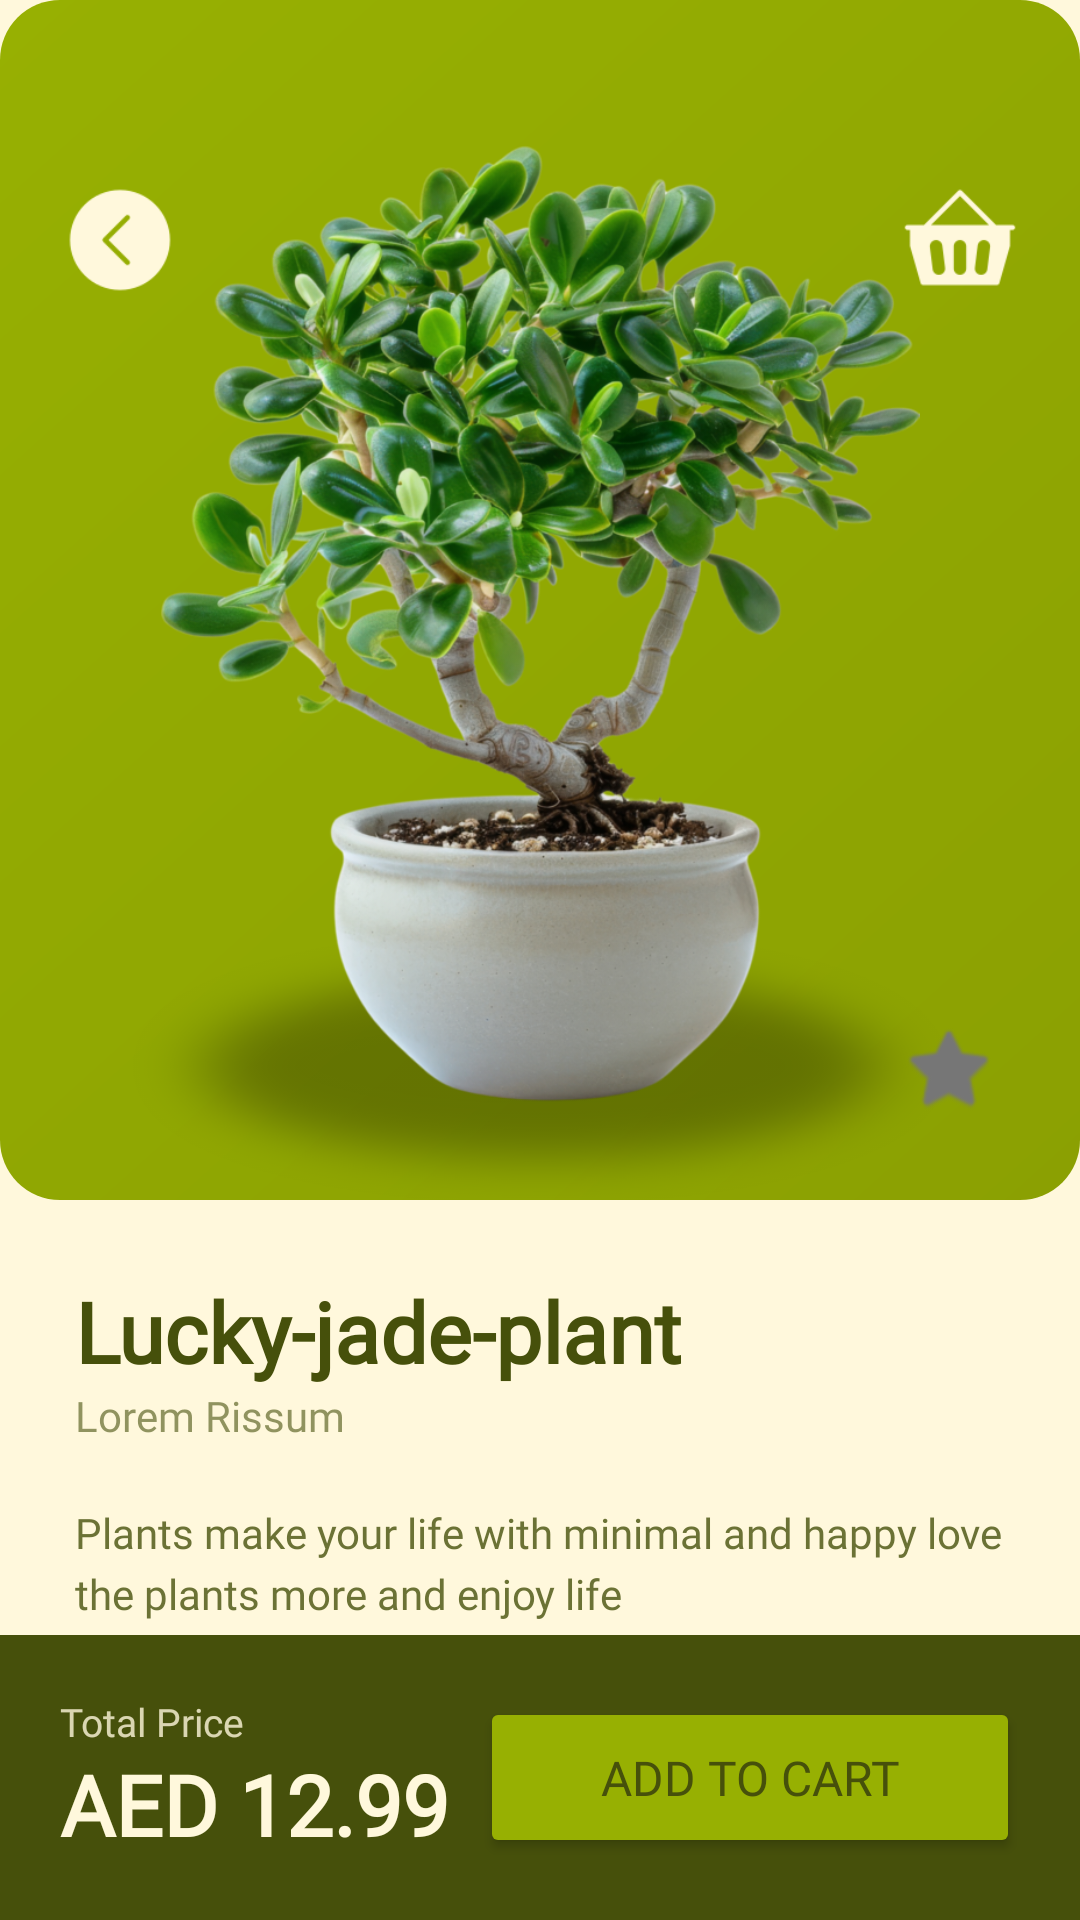

Icon bounding boxes for this 1080 x 1920 phone screenshot, format (x1,y1,x2,y2):
Back: (69,189,171,291)
Cart: (904,189,1016,286)
Favorite: (909,1030,988,1107)
